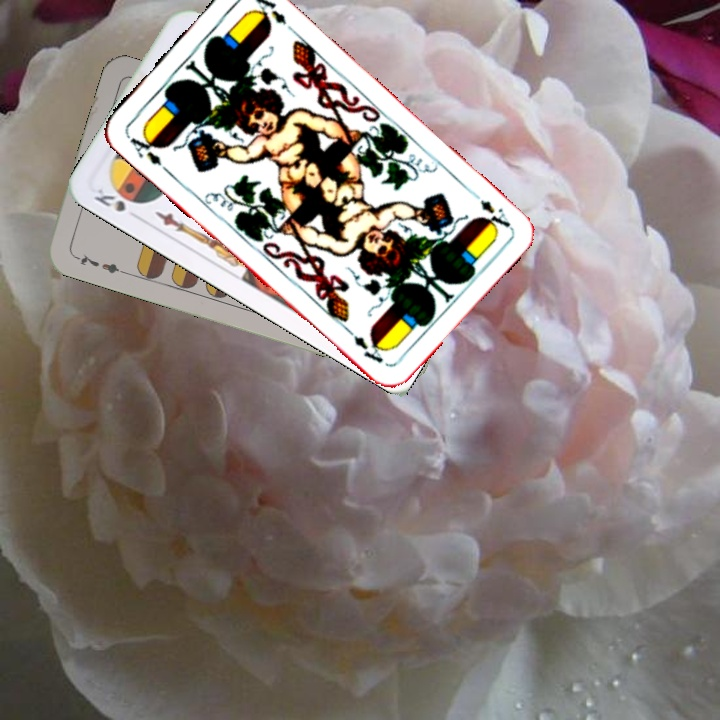E7: (70, 250, 128, 277)
EA: (465, 186, 514, 233), (123, 129, 164, 169)
SK: (90, 184, 128, 215)
